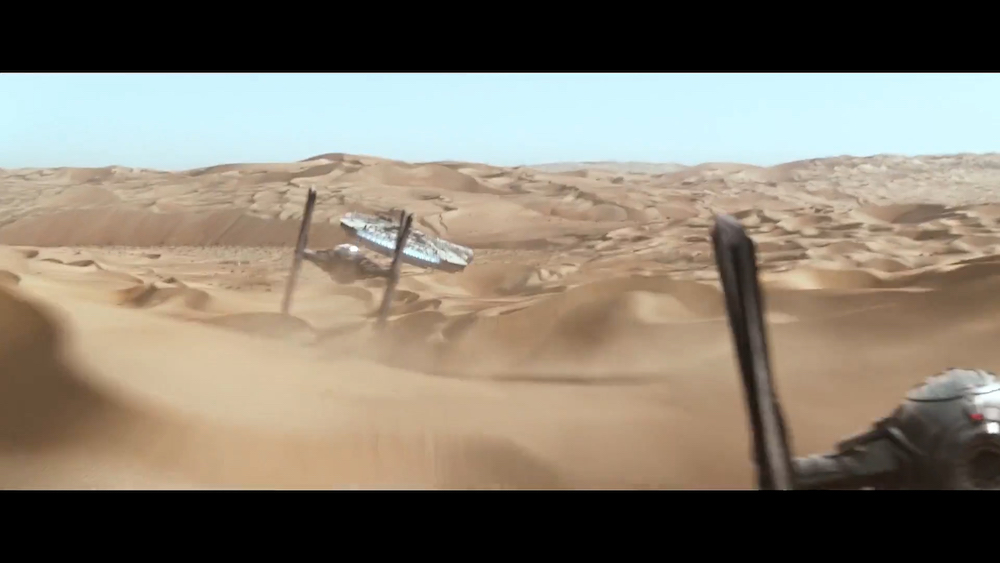Millennium Falcon: (339, 211, 475, 275)
Tie Fighter: (706, 211, 1000, 491), (278, 188, 414, 346)
